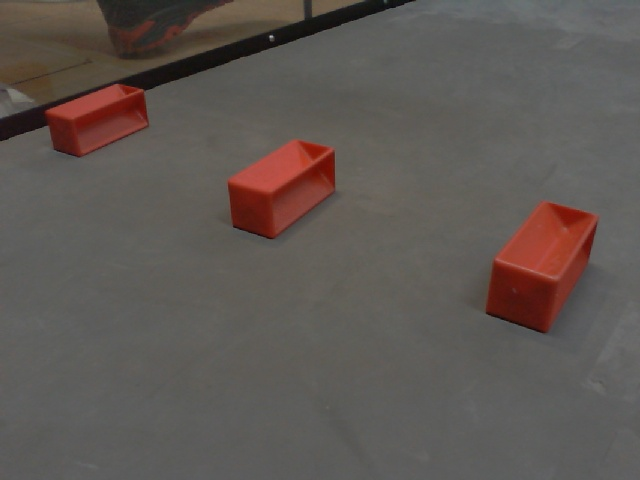RedSample: (482, 201, 599, 337), (228, 133, 338, 248), (45, 84, 153, 156)
